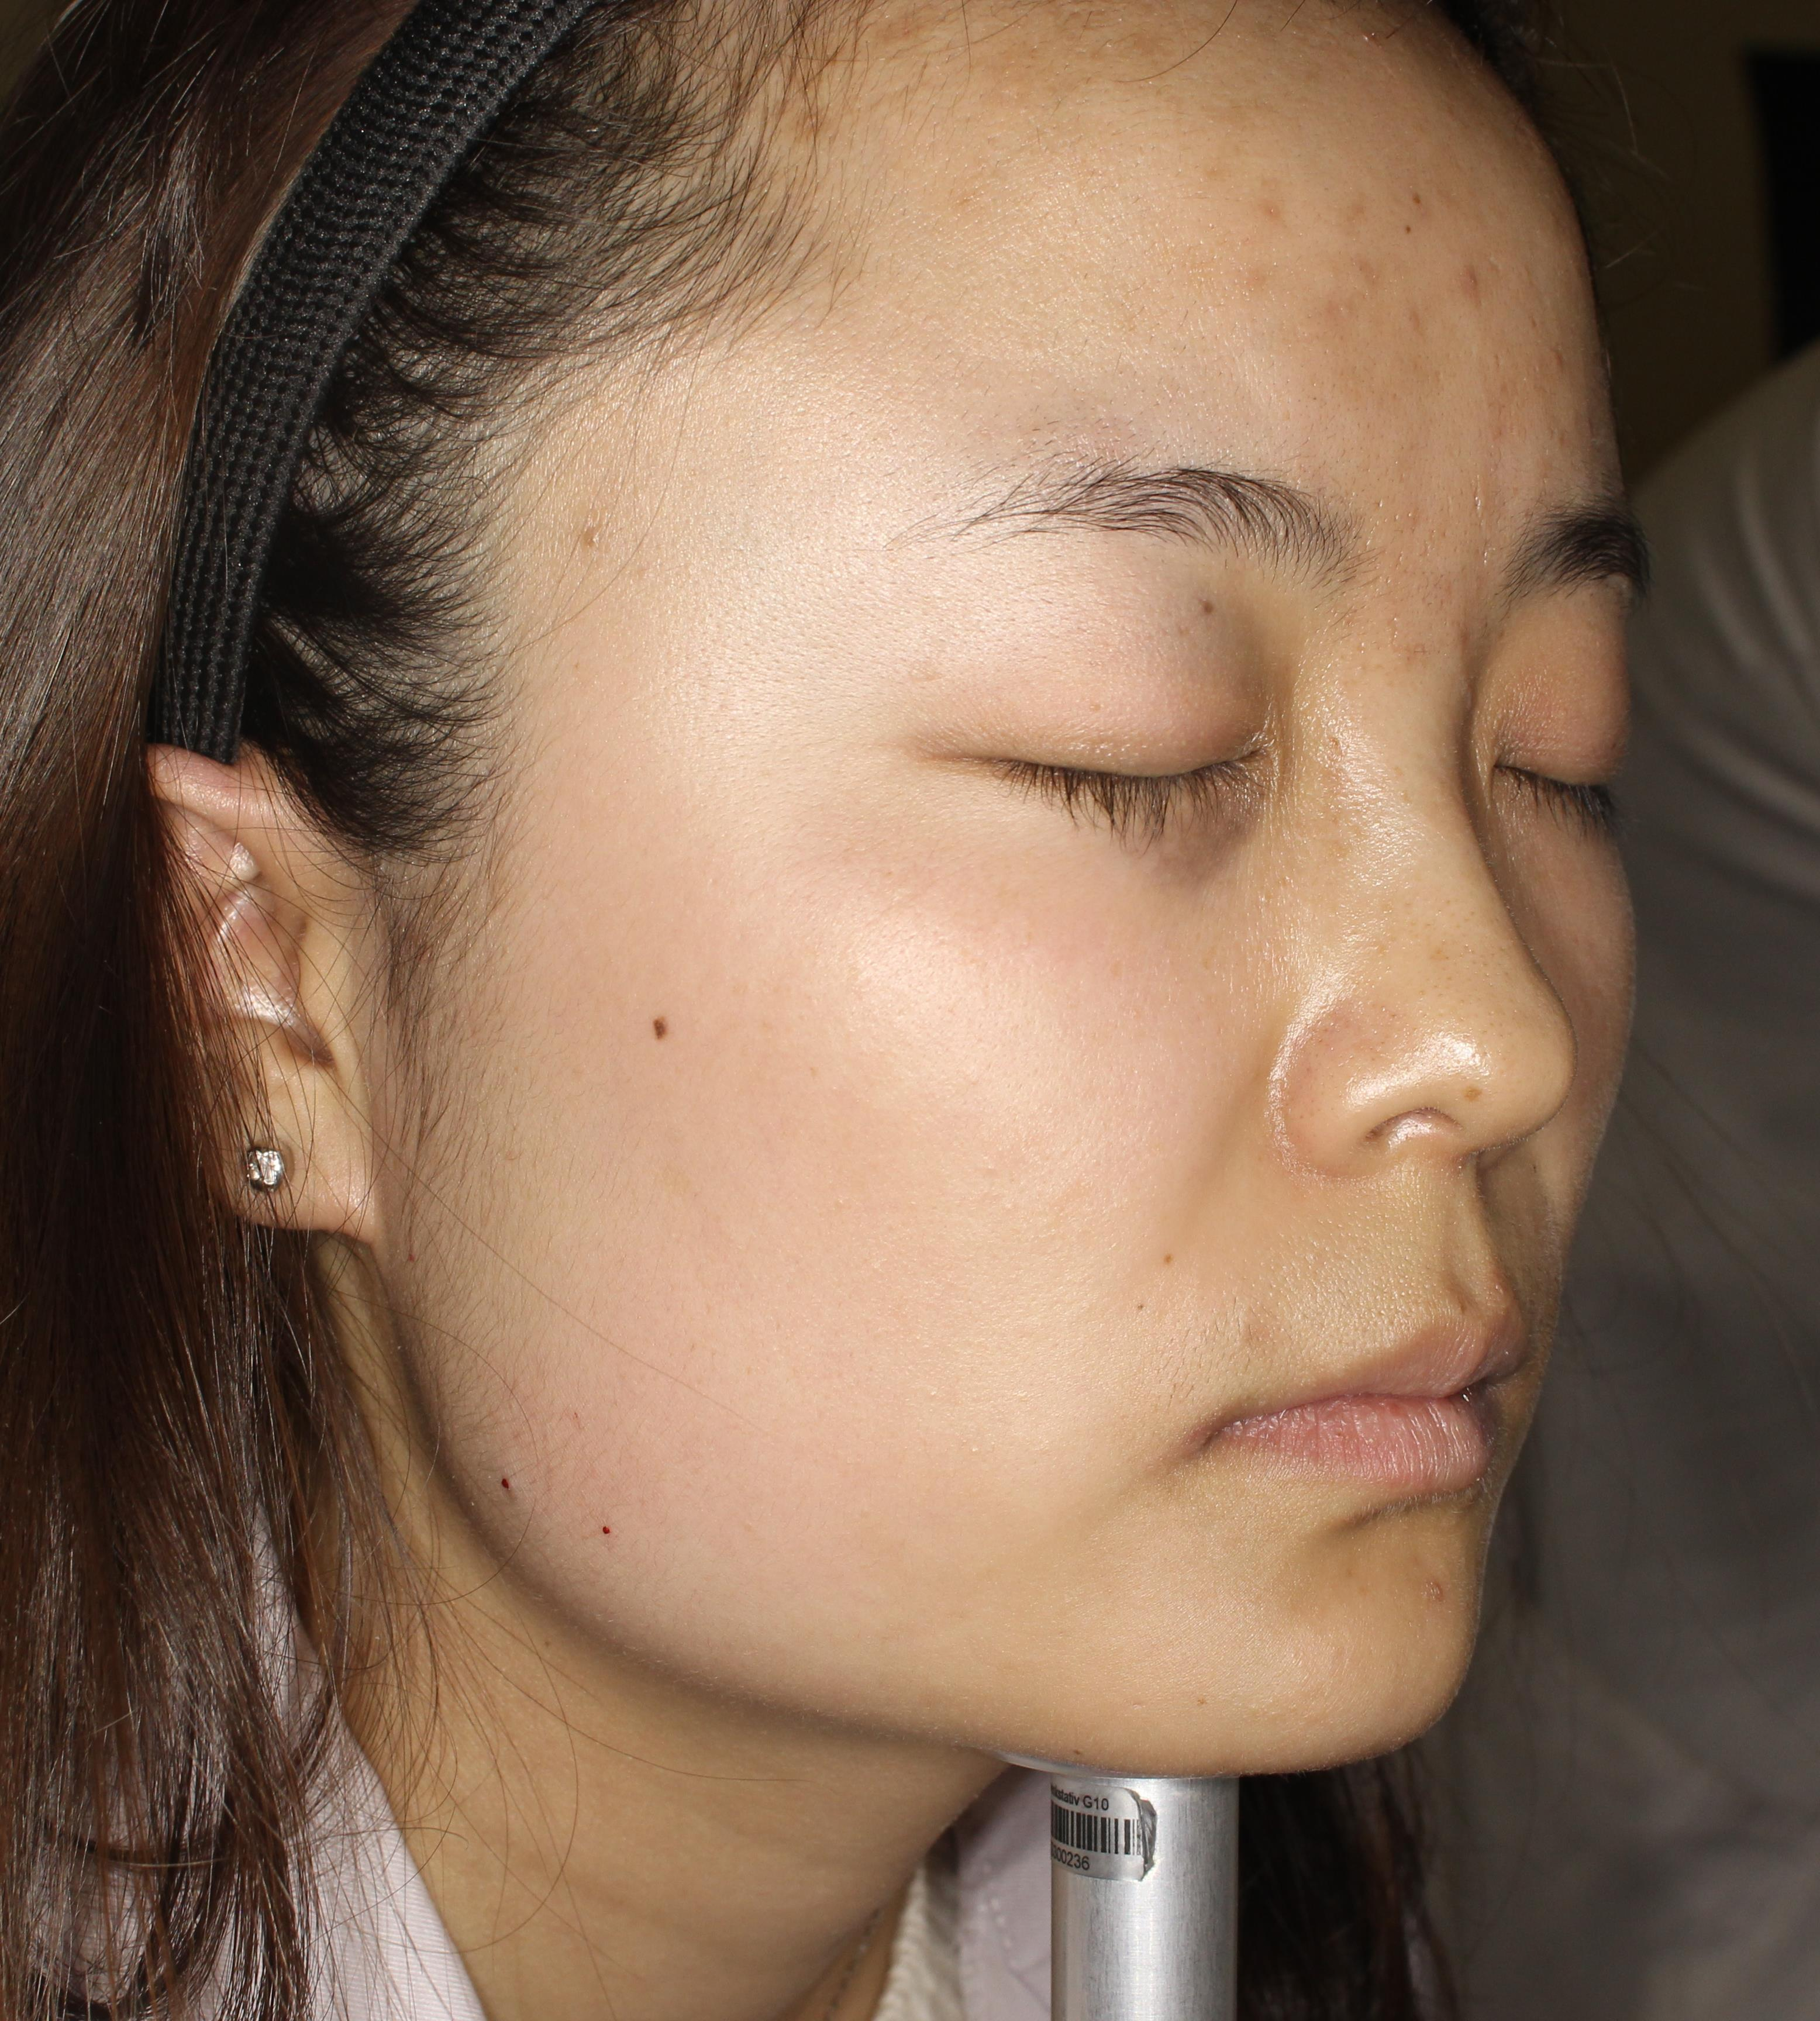fore: (1337, 227, 1421, 304), (1441, 246, 1493, 321)
